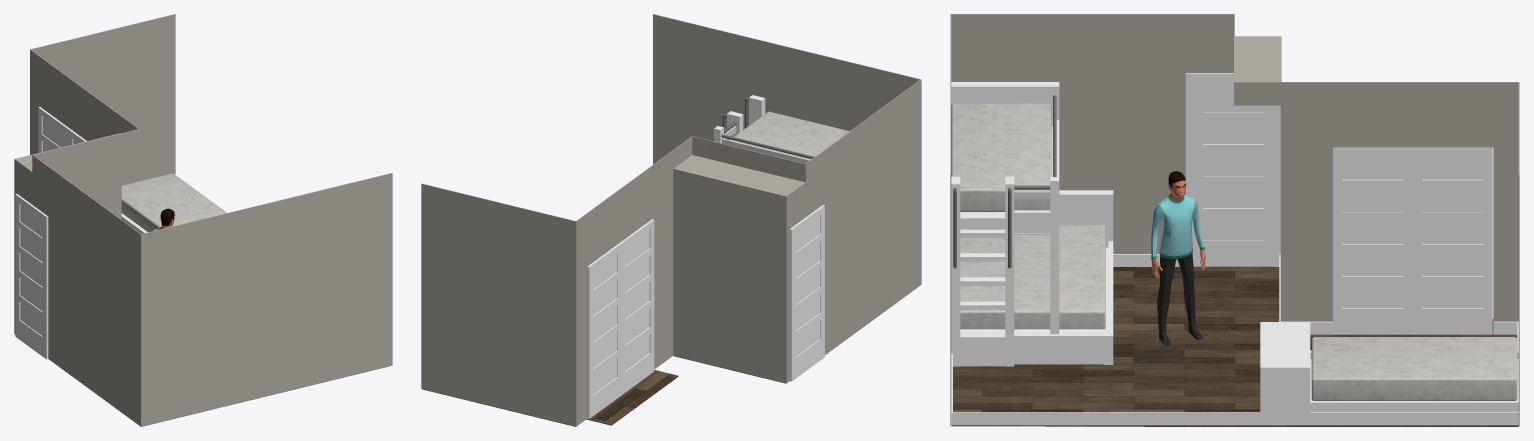
File: bunks-2.glb
3 renders of one model, left to right at view 1: azimuth 30°, elevation 25°; view 2: azimuth 150°, elevation 25°; view 3: azimuth 270°, elevation 25°, orthographic. The views are drawn at different scales.
Parts seen in each view (by area): view 1: innerWall.001, innerWall, innerWall.002, Cube.004, mattress.001, Cube.006; view 2: innerWall, innerWall.002, innerWall.001, Cube.006, Cube.004, mattress.006, floor, Cube.246; view 3: innerWall, floor, Cube.006, Cube.004, mattress.001, mattress.005, mattress.006, floor.001, Human 2, Plane.002, Cube.194, Cube.023 (+15 smaller).
Part boxes in pixels (<box>): innerWall.001: <box>141,173,392,426</box>; innerWall: <box>14,49,141,426</box>; innerWall.002: <box>31,14,175,185</box>; Cube.004: <box>15,194,48,359</box>; mattress.001: <box>121,173,226,232</box>; Cube.006: <box>38,107,86,152</box>; innerWall: <box>575,79,921,426</box>; innerWall.002: <box>421,183,575,426</box>; innerWall.001: <box>653,14,920,164</box>; Cube.006: <box>587,219,654,418</box>; Cube.004: <box>789,205,824,381</box>; mattress.006: <box>729,111,849,159</box>; floor: <box>422,356,786,426</box>; Cube.246: <box>722,138,810,163</box>; innerWall: <box>950,14,1519,321</box>; floor: <box>951,266,1518,426</box>; Cube.006: <box>1333,147,1492,334</box>; Cube.004: <box>1192,80,1273,266</box>; mattress.001: <box>1311,337,1517,400</box>; mattress.005: <box>960,225,1105,329</box>; mattress.006: <box>951,103,1051,211</box>; floor.001: <box>951,254,1518,425</box>; Human 2: <box>1151,171,1205,345</box>; Plane.002: <box>1185,73,1280,266</box>; Cube.194: <box>1014,337,1104,364</box>; Cube.023: <box>1260,322,1310,369</box>.
Size of the model in its own units: 3.78 by 2.75 by 5.62.
13 materials, 6 textured.
